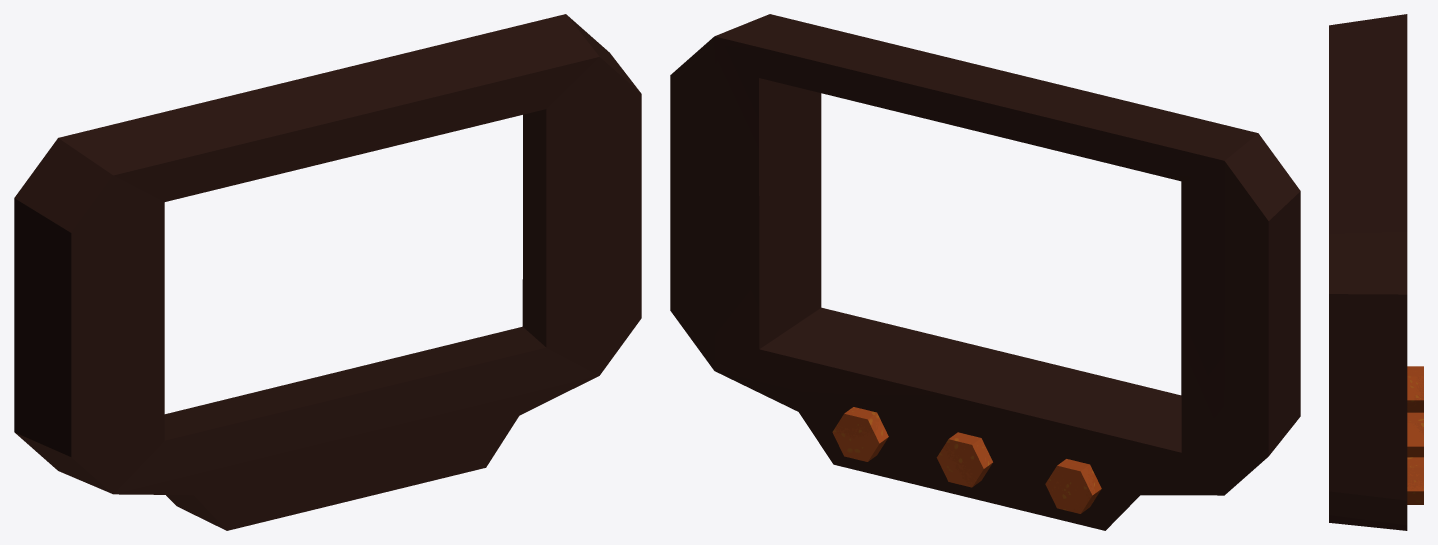
3 renders of one model, left to right at view 1: azimuth 30°, elevation 25°; view 2: azimuth 150°, elevation 25°; view 3: azimuth 270°, elevation 25°, orthographic. The views are drawn at different scales.
Parts seen in each view (by area): view 1: tv; view 2: tv; view 3: tv.
Boxes of the visible parts, box(x1,y1,x2,y2) form: tv: box(14, 14, 641, 530); tv: box(670, 14, 1300, 530); tv: box(1329, 14, 1423, 530).
Bounding box in the file's own units: 46.03 × 29.34 × 7.21.
